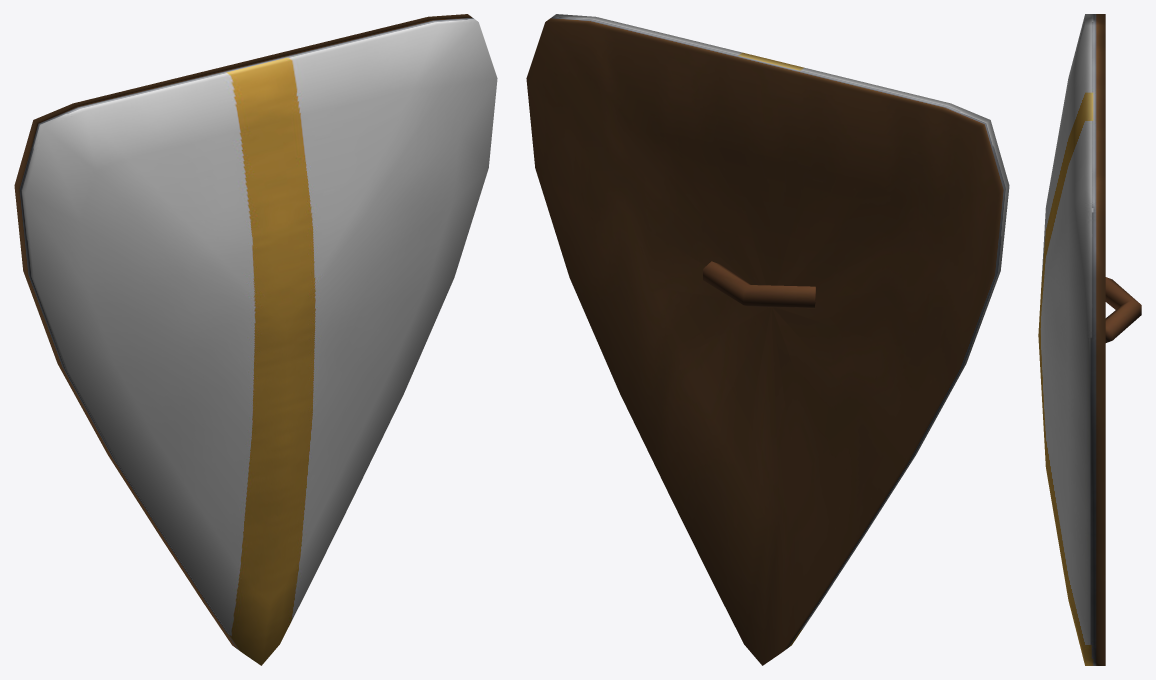
The model's file is bouclier-ecu.glb.
3 views of the same model, side by side, from view 1: azimuth 30°, elevation 25°; view 2: azimuth 150°, elevation 25°; view 3: azimuth 270°, elevation 25° (orthographic). The views are drawn at different scales.
Visible parts, largest first — view 1: bouclier-ecu; view 2: bouclier-ecu; view 3: bouclier-ecu.
Boxes of the visible parts, left/top/right/bottom form: bouclier-ecu: left=14, top=14, right=497, bottom=665; bouclier-ecu: left=526, top=14, right=1009, bottom=665; bouclier-ecu: left=1038, top=14, right=1141, bottom=665.
Size of the model in its own units: 0.5454 by 0.66 by 0.1104.
Materials: 1 (1 with a texture image).
